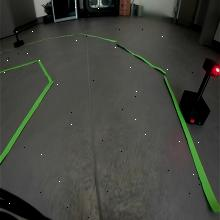red: (202, 57, 220, 77)
